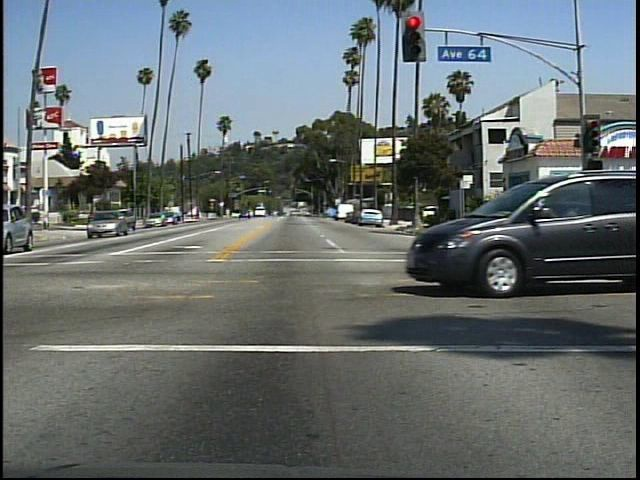person: (533, 194, 560, 247)
